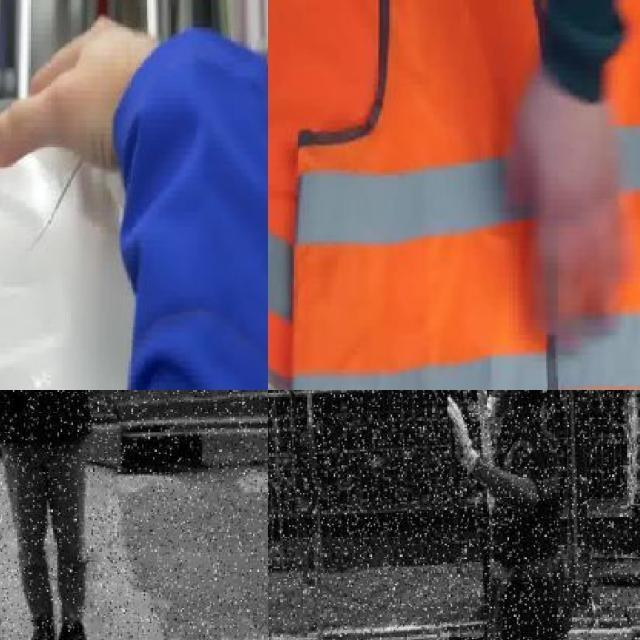apron: (442, 391, 478, 476)
